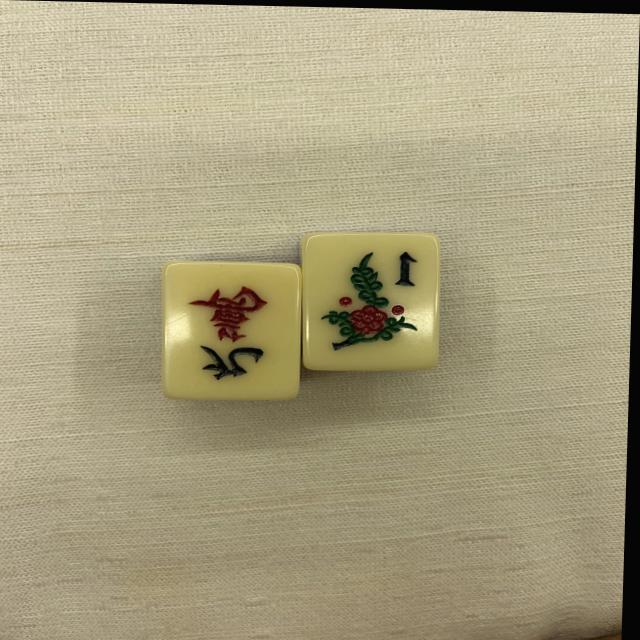f1: (312, 241, 430, 361)
m9: (171, 271, 291, 390)
